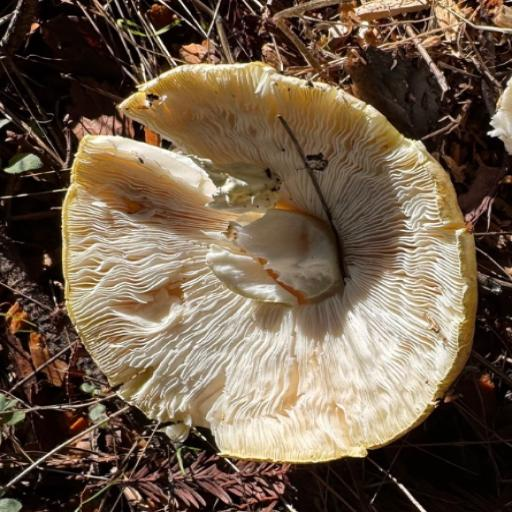Death Cap: (0, 13, 512, 512)
